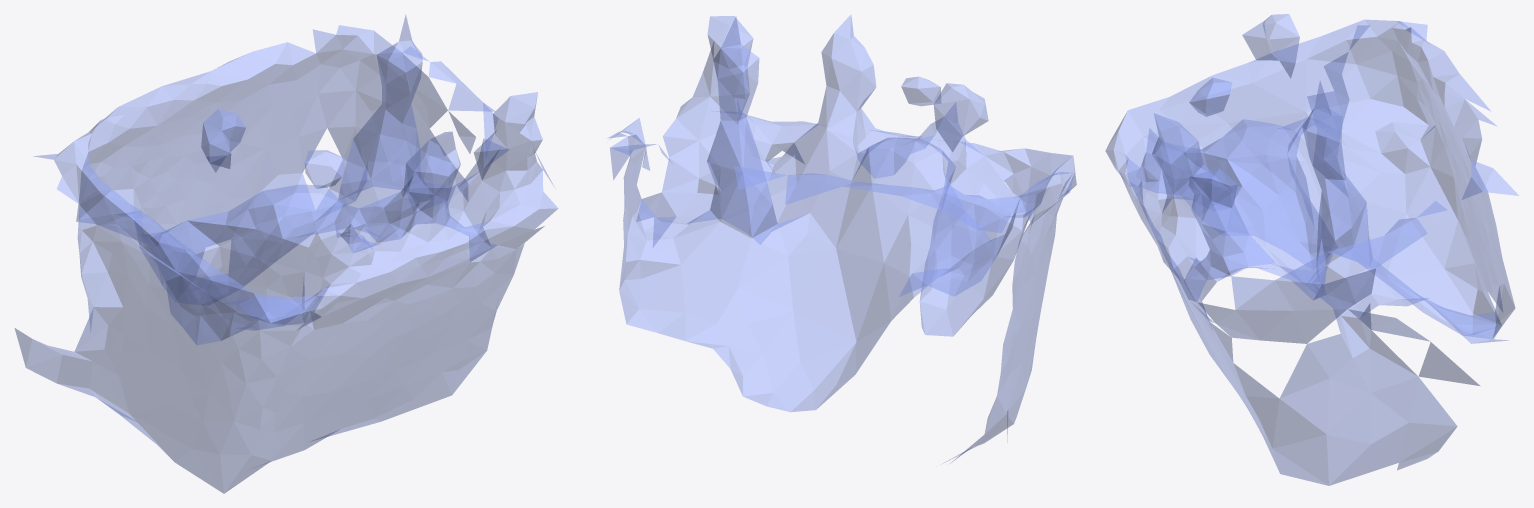
Rendered from sauce_dim.glb.
3 views of the same model, side by side, from view 1: azimuth 30°, elevation 25°; view 2: azimuth 150°, elevation 25°; view 3: azimuth 270°, elevation 25° (orthographic). The views are drawn at different scales.
Parts seen in each view (by area): view 1: Sauce; view 2: Sauce; view 3: Sauce.
Part boxes in pixels (x1,y1,x2,y2): Sauce: (14, 14, 558, 493); Sauce: (607, 15, 1076, 463); Sauce: (1105, 14, 1518, 485).
Size of the model in its own units: 0.225 by 0.1934 by 0.1758.
